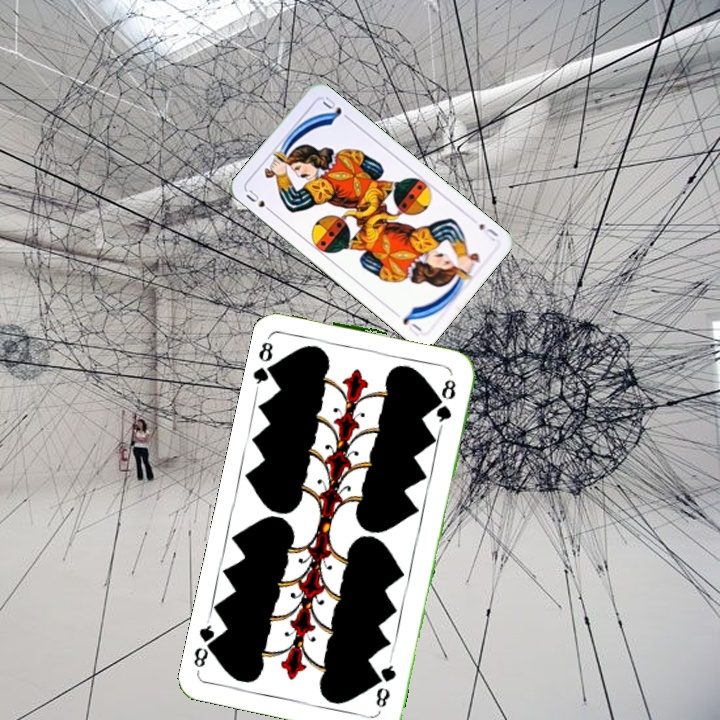G8: (250, 331, 281, 390), (371, 655, 399, 710)
SU: (242, 185, 277, 216), (475, 219, 501, 244)
